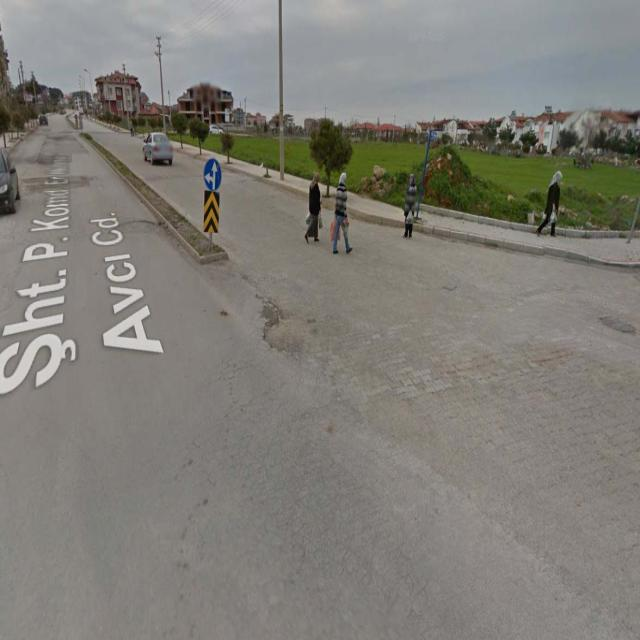ilerisol: (203, 158, 223, 190)
